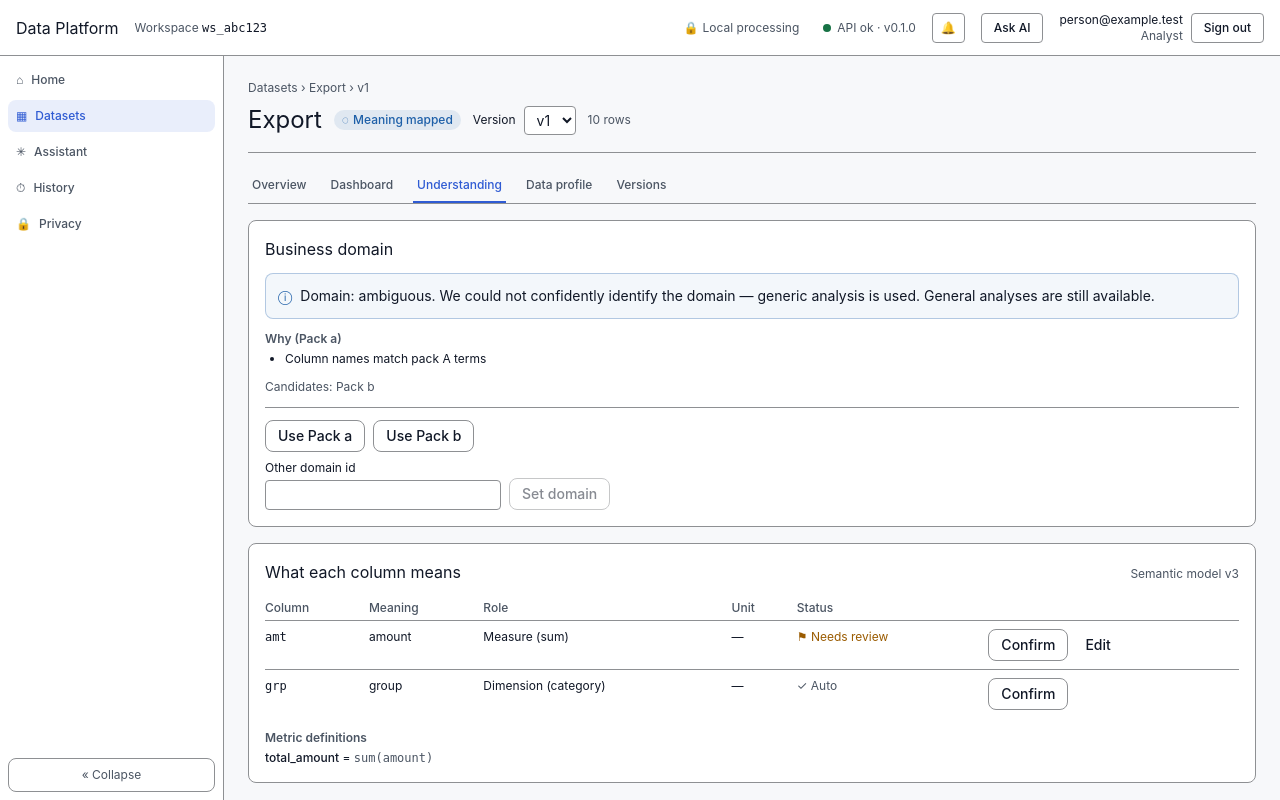
Test case: SemanticMappingViewer (TASK-UI-007) › lets an analyst choose the domain among the candidates
The width and height of the screenshot is (1280, 800).
Click the button "Use Pack b".
click(424, 436)  # box [373,420,474,452]
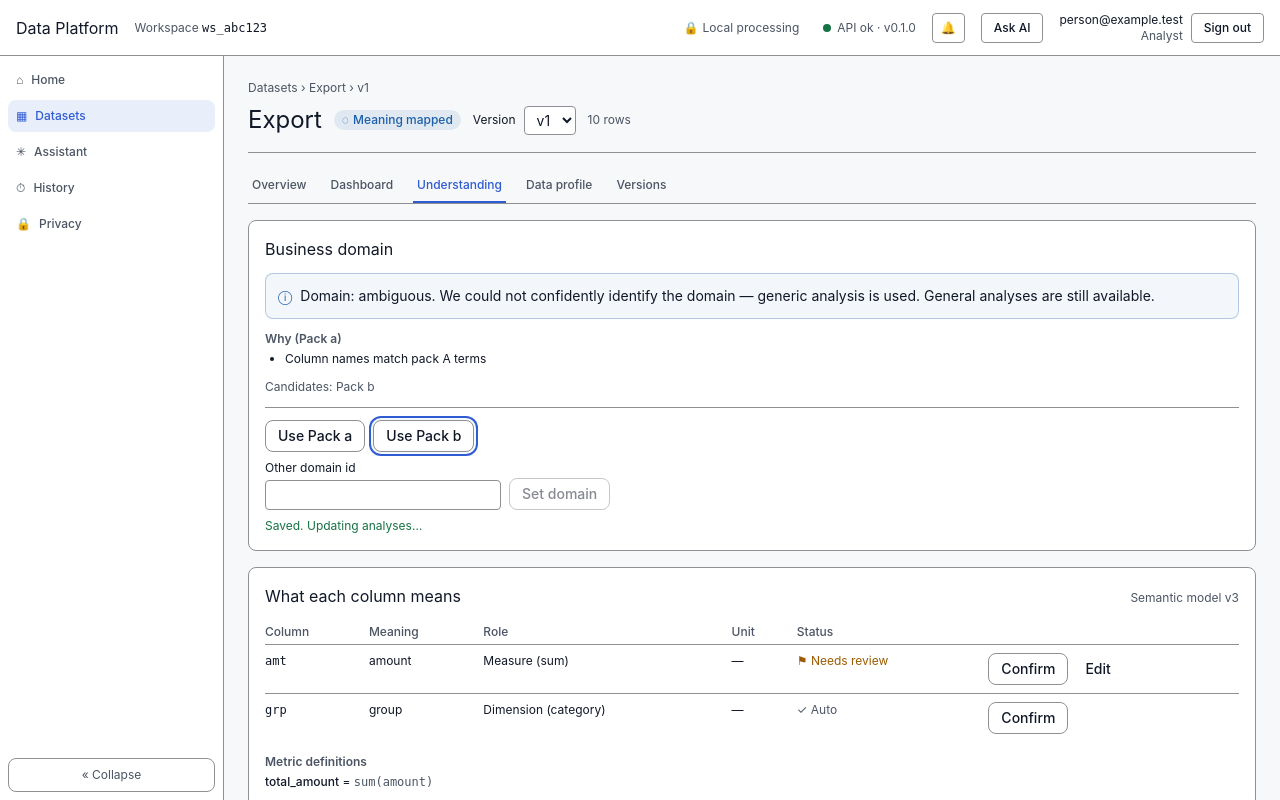
Expected: the text "Saved. Updating analyses…" is shown, [265,518,422,533]
